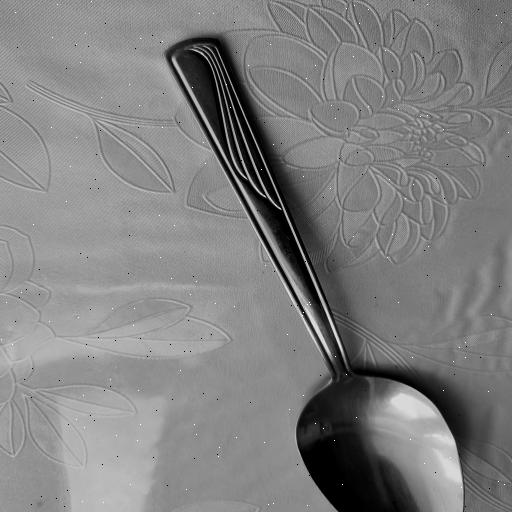spoon: (158, 32, 464, 510)
